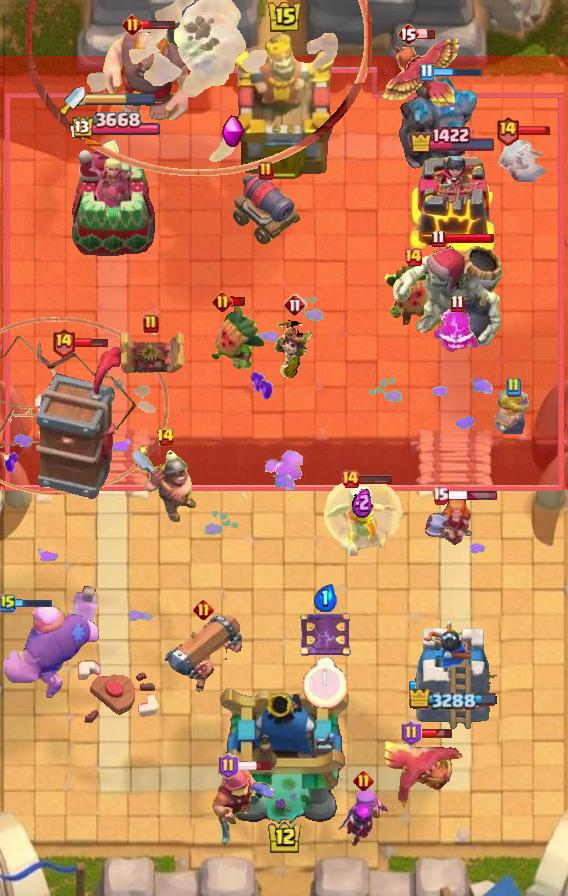balloon: (0, 602, 102, 702), (100, 27, 188, 125)
bandit: (131, 447, 199, 525)
bar: (70, 138, 158, 256)
battle-healer: (162, 610, 244, 694)
bomber-evolution: (273, 320, 317, 380)
cannoneer-tower: (396, 76, 480, 174)
dart-goblin: (34, 345, 124, 501)
electro-giant: (390, 243, 506, 353)
electro-spirit: (351, 486, 373, 518), (313, 584, 337, 612)
elixir: (304, 657, 349, 709)
emote: (431, 66, 483, 78), (443, 232, 495, 244), (1, 597, 53, 609), (446, 490, 498, 501), (235, 760, 272, 772), (140, 18, 176, 30), (357, 473, 393, 485), (419, 727, 454, 739), (73, 336, 109, 347), (517, 124, 551, 135), (416, 28, 436, 39), (229, 297, 247, 308)
fireball: (210, 768, 278, 848)
goblin-barrel: (208, 302, 266, 372), (384, 262, 442, 326)
goblin-brawler: (116, 328, 186, 378)
goblin-giant: (495, 388, 531, 435)
golden-knight: (381, 35, 463, 107)
guard: (0, 316, 168, 496)
hog-rider: (424, 496, 476, 550)
ice-spirit-evolution-symbol: (298, 609, 352, 659)
king-tower: (216, 684, 352, 826), (231, 35, 337, 182)
king-tower-bar: (85, 93, 155, 107)
knight-evolution: (69, 586, 98, 625)
mother-witch: (380, 733, 466, 817)
poison: (320, 475, 405, 567)
queen-tower: (409, 616, 497, 731), (408, 154, 498, 256)
rascal-girl: (336, 787, 390, 849)
royal-ghost: (26, 0, 372, 176)
royal-giant-evolution: (231, 172, 301, 246)
selected: (68, 112, 159, 140), (409, 126, 497, 154), (409, 688, 497, 712)
skeleton-king-skill: (220, 115, 245, 149)
spear-goblin: (431, 305, 483, 359)
tesla: (493, 130, 547, 182)
text: (495, 114, 520, 145), (51, 326, 76, 357), (283, 293, 307, 317), (401, 720, 422, 746), (217, 753, 238, 779), (397, 22, 419, 46), (211, 292, 233, 313), (193, 600, 215, 621), (353, 770, 375, 791), (121, 14, 142, 35), (403, 247, 423, 267), (340, 469, 360, 489), (157, 427, 176, 447), (431, 486, 449, 505), (258, 161, 274, 181), (143, 314, 159, 334), (505, 377, 521, 397), (0, 593, 16, 613), (431, 229, 446, 247), (451, 295, 465, 314), (419, 63, 433, 81)
